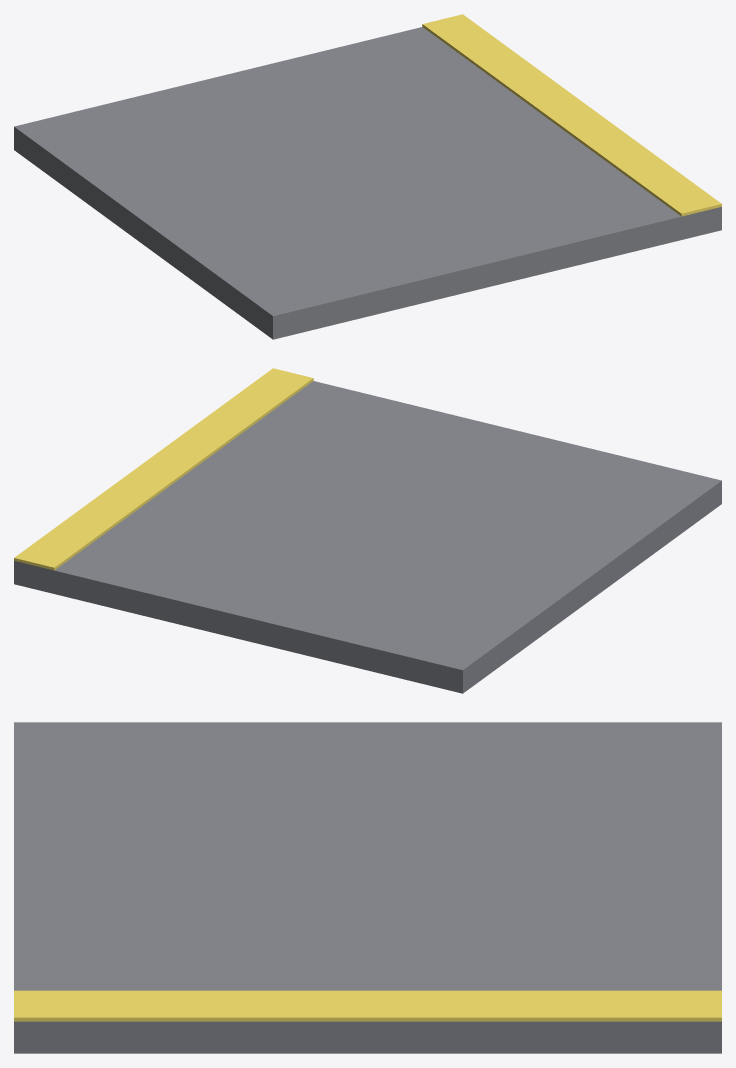
The model's file is road_line.glb.
3 renders of one model, top to bottom at view 1: azimuth 30°, elevation 25°; view 2: azimuth 150°, elevation 25°; view 3: azimuth 270°, elevation 25°, orthographic. The views are drawn at different scales.
Visible parts, largest first — view 1: road_line; view 2: road_line; view 3: road_line.
Part boxes in pixels (left/top/right/bottom): road_line: left=14, top=14, right=721, bottom=339; road_line: left=14, top=368, right=721, bottom=693; road_line: left=14, top=722, right=721, bottom=1053.
Size of the model in its own units: 1 by 0.056 by 1.
